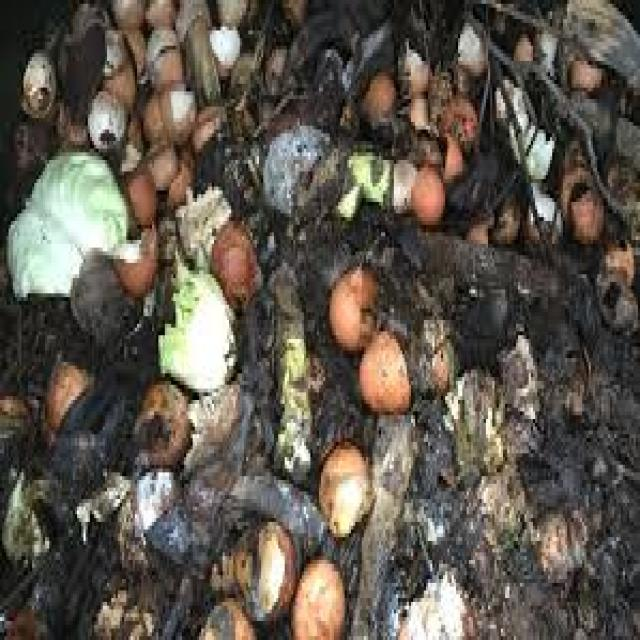food_waste: (31, 62, 590, 576)
